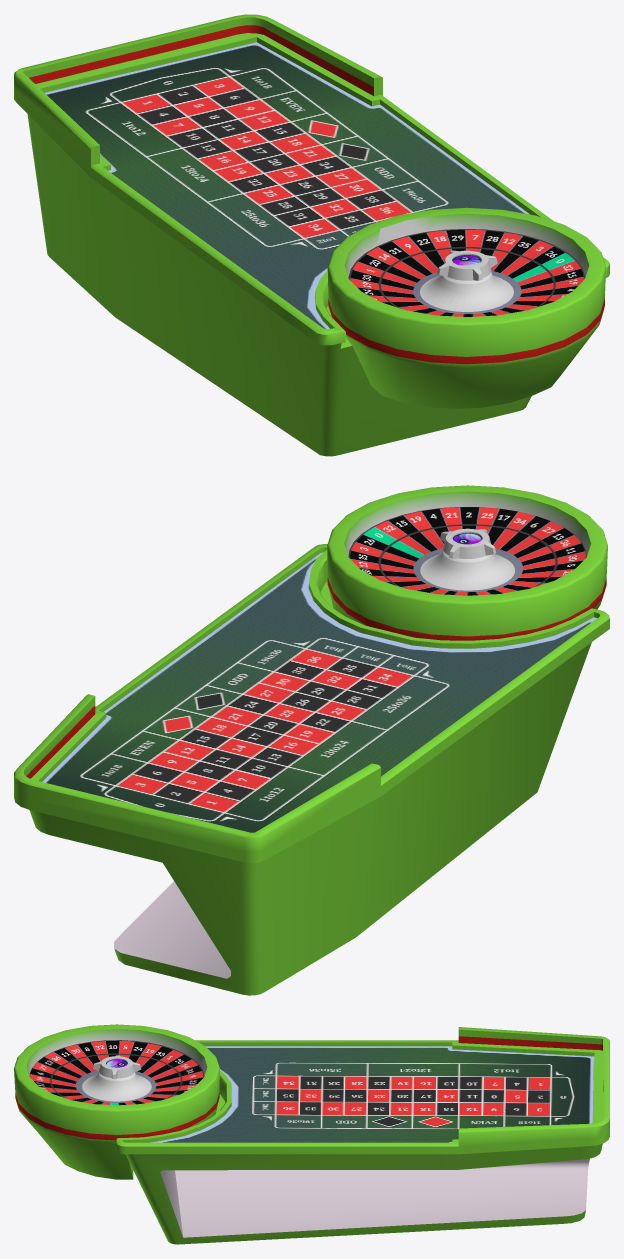
Rendered from Roulette.fbx.
3 views of the same model, one above another, from view 1: azimuth 30°, elevation 25°; view 2: azimuth 150°, elevation 25°; view 3: azimuth 270°, elevation 25° (orthographic). The views are drawn at different scales.
Visible parts, largest first — view 1: Roulette; view 2: Roulette; view 3: Roulette.
Part boxes in pixels (bbox=[...]): Roulette: bbox=[14, 14, 609, 456]; Roulette: bbox=[14, 485, 609, 995]; Roulette: bbox=[14, 1024, 609, 1244].
Bounding box in the file's own units: 158 × 102 × 377.
